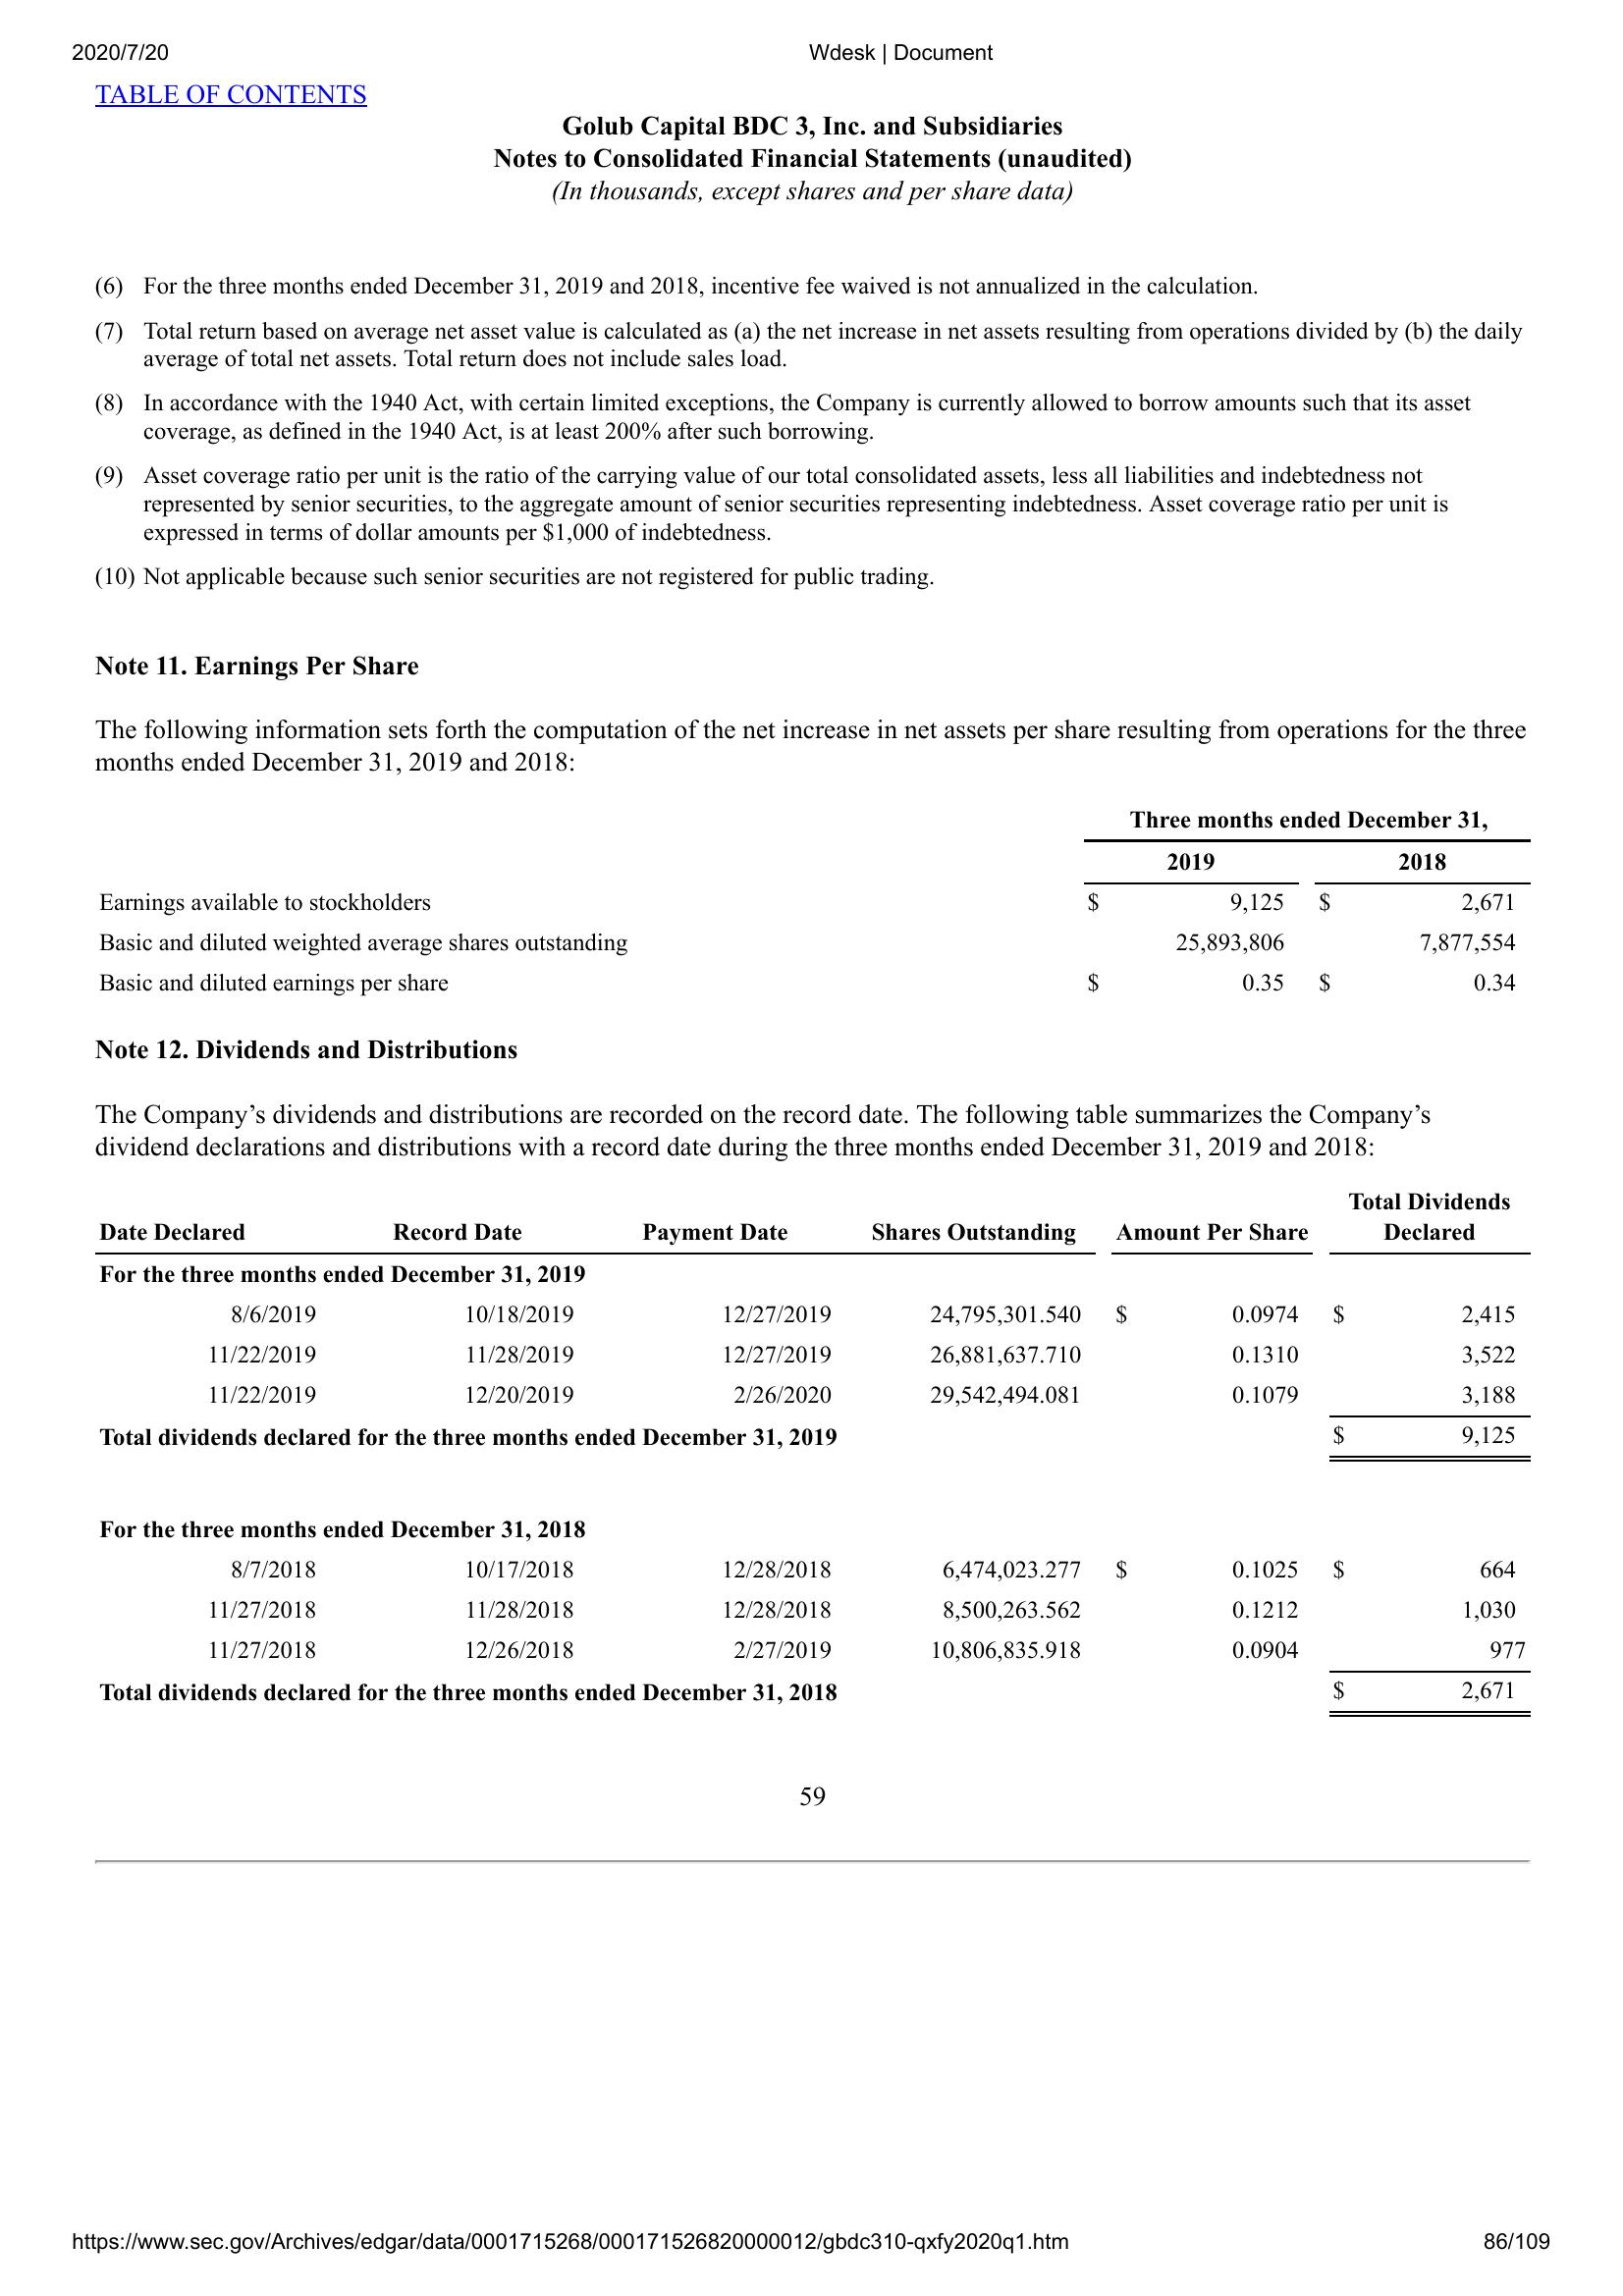table: (90, 1188, 1535, 1736), (93, 804, 1535, 1001)
